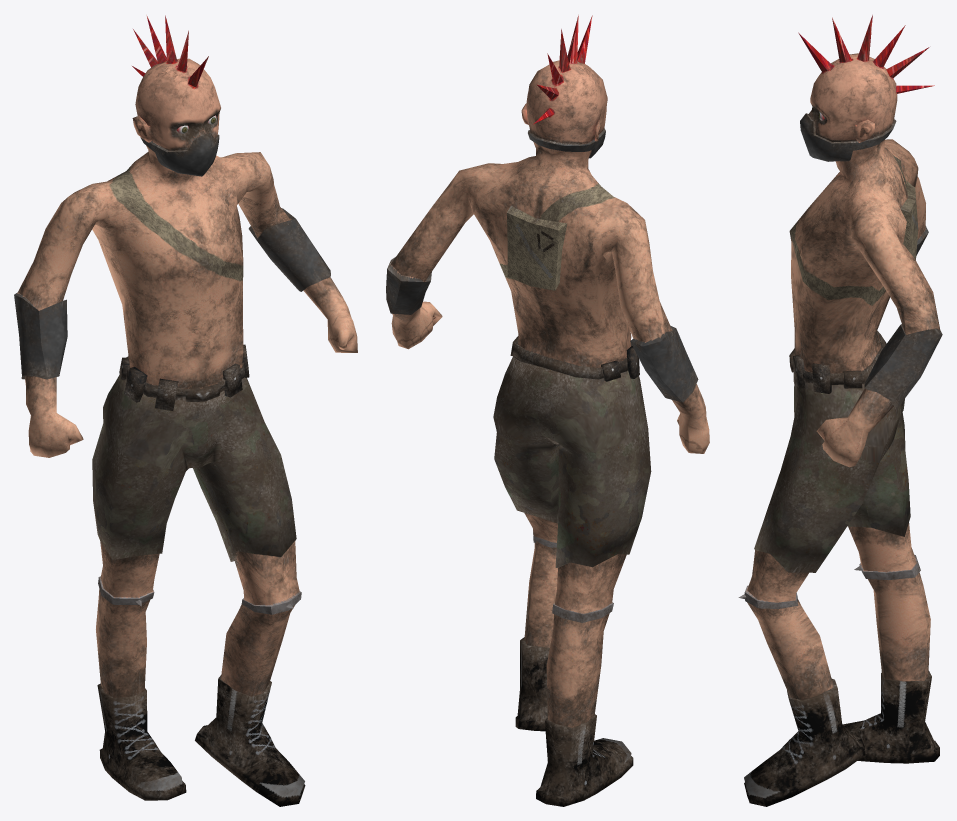
Rendered from Anim_ataque_f2_npc2.0011.obj.
3 views of the same model, side by side, from view 1: azimuth 30°, elevation 25°; view 2: azimuth 150°, elevation 25°; view 3: azimuth 270°, elevation 25° (orthographic).
Visible parts, largest first — view 1: polySurface1; view 2: polySurface1; view 3: polySurface1.
Part boxes in pixels (x1,y1,x2,y2): polySurface1: (14, 15, 357, 806); polySurface1: (386, 15, 709, 806); polySurface1: (738, 15, 942, 806).
Size of the model in its own units: 4.52 by 10.17 by 2.5.
